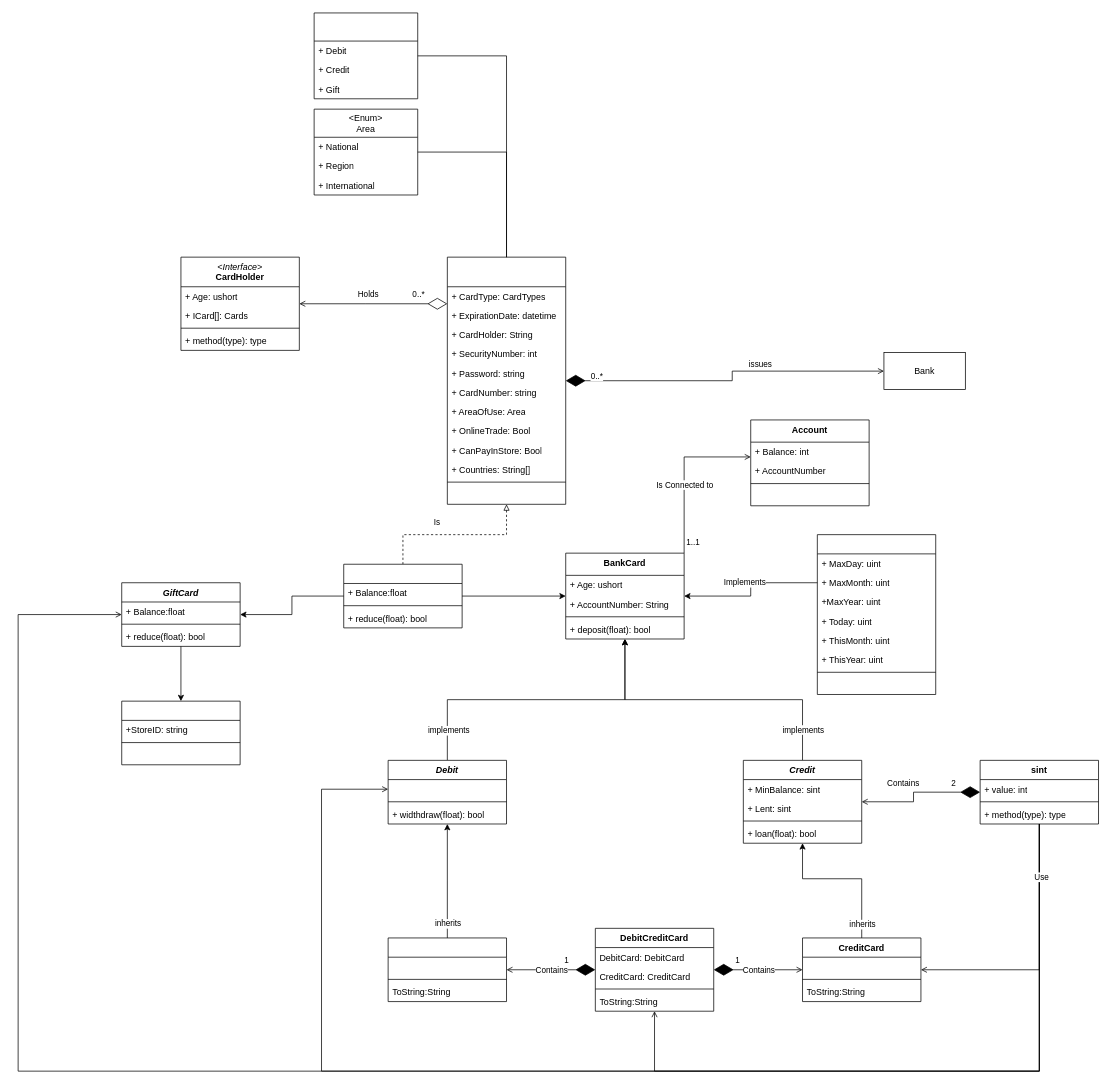
This 1111x1090 diagram has some shape labels left out. Each missing label, with the box of its shape:
<Enum> CardTypes: (313, 12, 418, 99)
<Interface> ICard: (447, 256, 566, 504)
Card: (343, 564, 462, 628)
DebitCard: (387, 937, 507, 1002)
IMaxUse: (817, 534, 936, 694)
StoreGiftCard: (121, 700, 240, 765)
